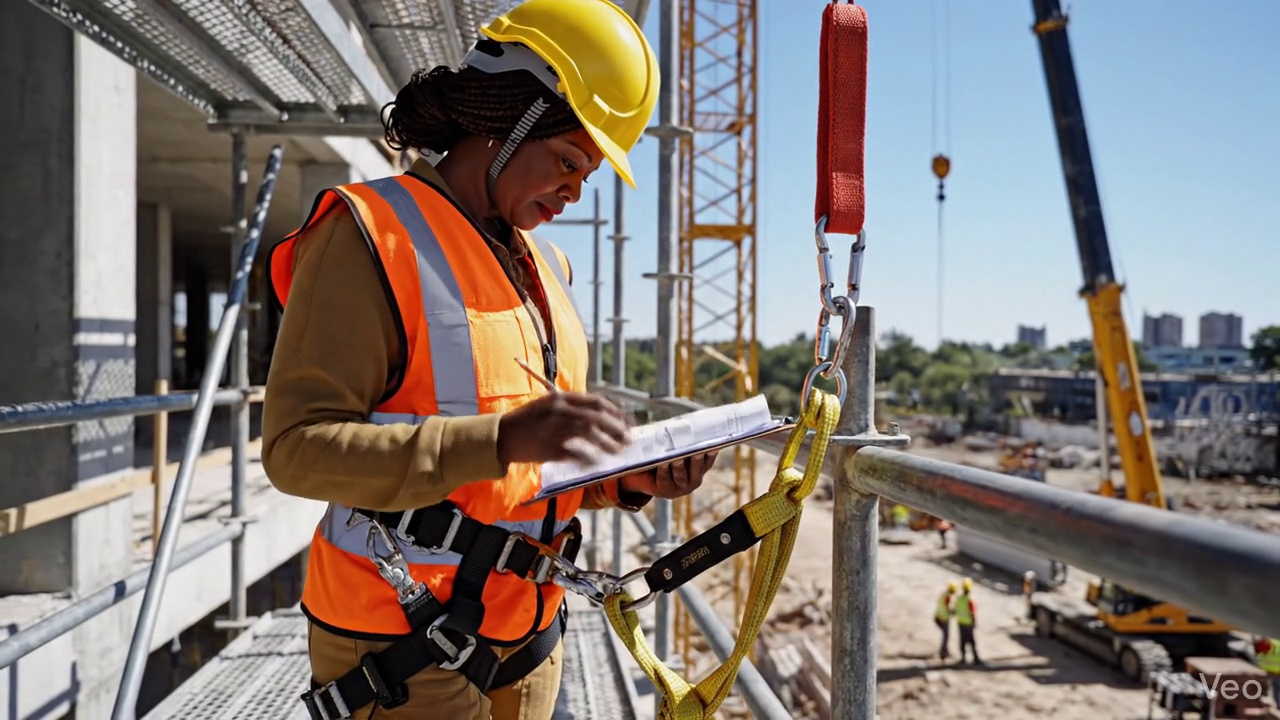p: (262, 0, 714, 719)
